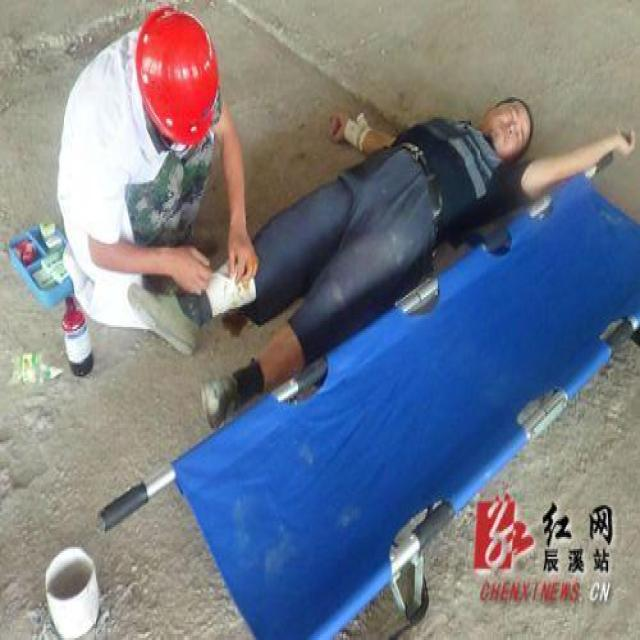helmet: (123, 6, 229, 158), (46, 539, 108, 636)
no-helmet: (479, 85, 539, 163)
